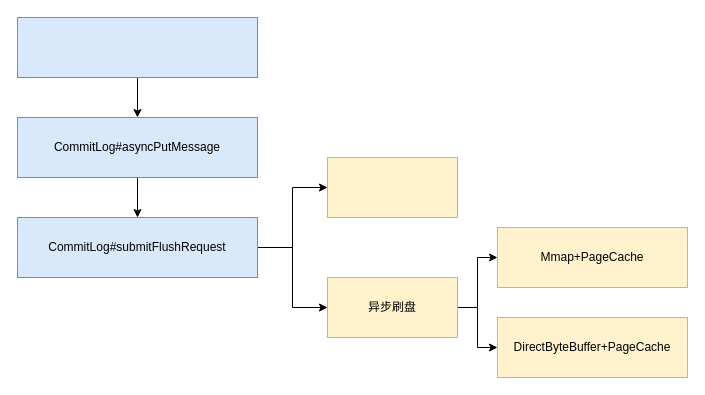
Image size: 705x395. Some labels were removed from this diagram. The centre of each missing label's shape, as x and y in pixels:
"SendMessageProcessor#processRequest" goes at (137,47).
"同步刷盘" goes at (392,187).
